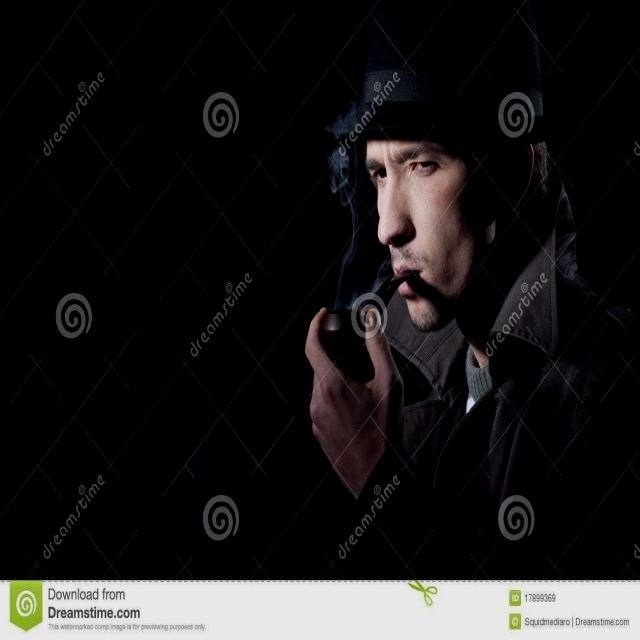Smooking: (308, 281, 421, 368)
